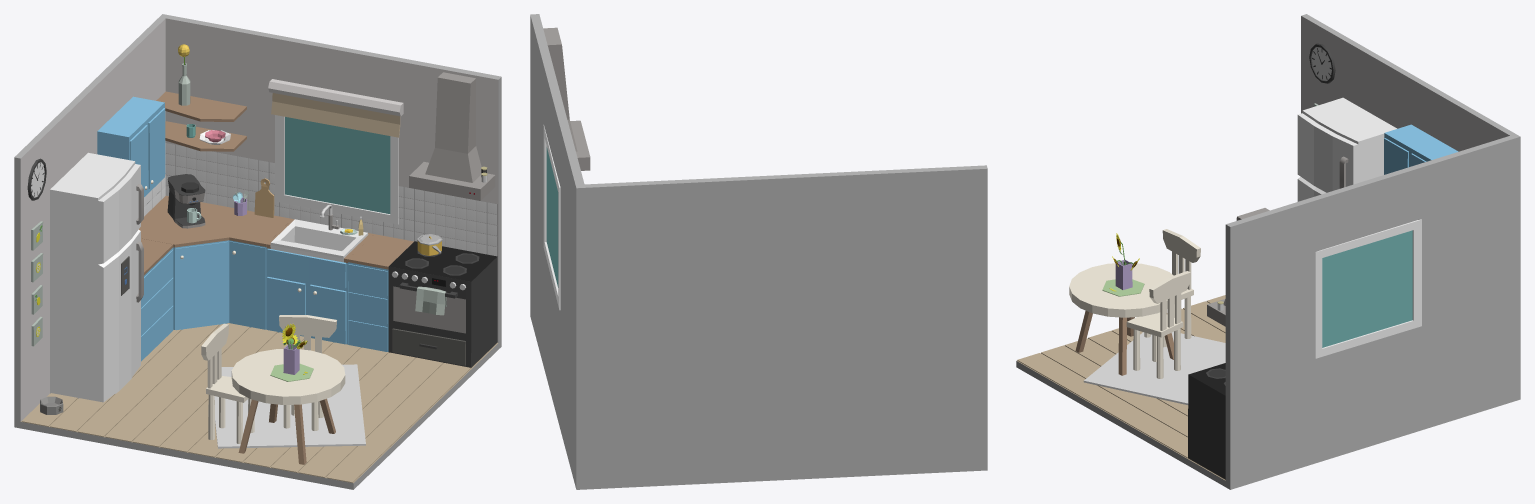
Rendered from Kitchen_2.fbx.
The picture shows the model from 3 angles, left to right: view 1: azimuth 30°, elevation 25°; view 2: azimuth 150°, elevation 25°; view 3: azimuth 270°, elevation 25°; orthographic projection. The views are drawn at different scales.
Parts seen in each view (by area): view 1: Kitchen_2_Base, Kitchen_2, Kitchen_2_Boards, Kitchen_2_Fridge, Kitchen_2_Tiles, Kitchen_2_Stove, Kitchen_2_Window, Kitchen_2_Cabinet, Kitchen_2_Hood, Kitchen_2_Table, Kitchen_2_Carpet, Kitchen_2_Curtain (+7 smaller); view 2: Kitchen_2_Base, Kitchen_2_Window, Kitchen_2_Hood; view 3: Kitchen_2_Base, Kitchen_2_Window, Kitchen_2_Boards, Kitchen_2_Fridge, Kitchen_2, Kitchen_2_Carpet, Kitchen_2_Table, Kitchen_2_Stove, Kitchen_2_Chair, Kitchen_2_Clock.
Part boxes in pixels (x1,y1,x2,y2): Kitchen_2_Base: (14, 14, 501, 489); Kitchen_2: (97, 96, 413, 430); Kitchen_2_Boards: (21, 323, 497, 482); Kitchen_2_Fridge: (50, 152, 143, 402); Kitchen_2_Tiles: (144, 143, 497, 256); Kitchen_2_Stove: (388, 241, 497, 367); Kitchen_2_Window: (275, 115, 398, 224); Kitchen_2_Cabinet: (266, 219, 373, 344); Kitchen_2_Hood: (409, 72, 495, 200); Kitchen_2_Table: (231, 349, 345, 464); Kitchen_2_Carpet: (214, 364, 365, 448); Kitchen_2_Curtain: (268, 79, 403, 137); Kitchen_2_Base: (530, 14, 987, 489); Kitchen_2_Window: (543, 125, 560, 310); Kitchen_2_Hood: (543, 27, 590, 170); Kitchen_2_Base: (1016, 14, 1520, 489); Kitchen_2_Window: (1315, 219, 1421, 358); Kitchen_2_Boards: (1017, 295, 1225, 479); Kitchen_2_Fridge: (1297, 97, 1396, 201); Kitchen_2: (1126, 124, 1458, 378); Kitchen_2_Carpet: (1083, 331, 1225, 404); Kitchen_2_Table: (1069, 263, 1174, 375); Kitchen_2_Stove: (1188, 363, 1225, 479); Kitchen_2_Chair: (1144, 229, 1200, 347); Kitchen_2_Clock: (1309, 43, 1335, 83).
Bounding box in the file's own units: 699 × 402 × 699.
